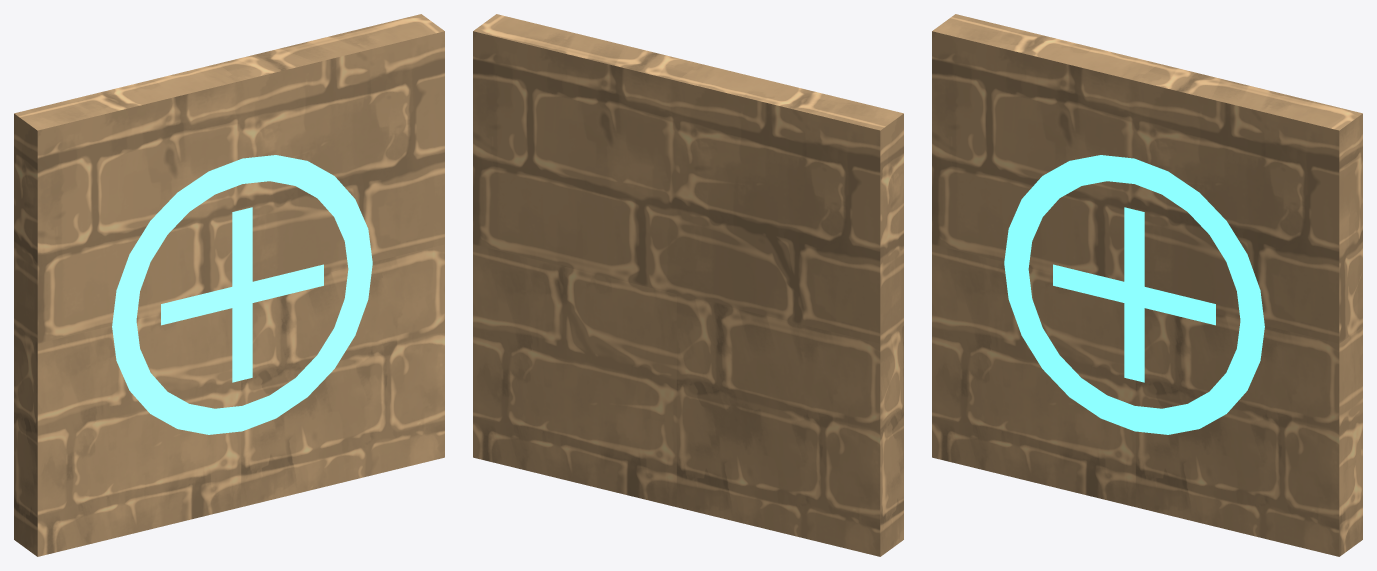
File: magitech_panel.gltf
3 renders of one model, left to right at view 1: azimuth 30°, elevation 25°; view 2: azimuth 150°, elevation 25°; view 3: azimuth 330°, elevation 25°, orthographic.
Visible parts, largest first — view 1: magitech_panel; view 2: magitech_panel; view 3: magitech_panel.
Part boxes in pixels (x1,y1,x2,y2): magitech_panel: [14, 14, 444, 556]; magitech_panel: [473, 14, 903, 556]; magitech_panel: [932, 14, 1362, 556].
Bounding box in the file's own units: 1 × 1 × 0.105.
Materials: 2 (1 with a texture image).
